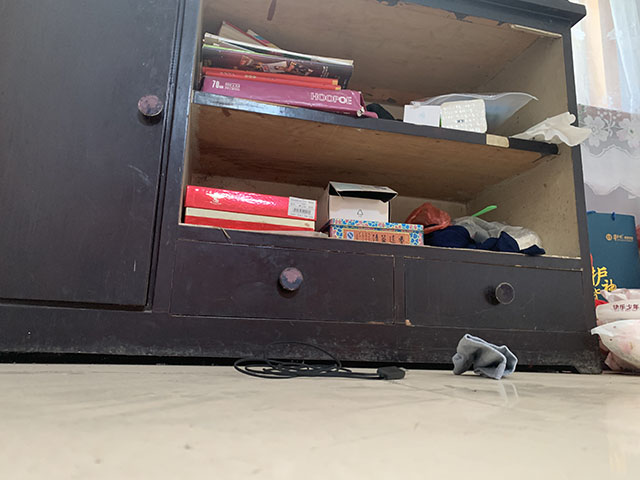cabinet: (1, 1, 602, 376)
socks: (450, 332, 519, 381)
wire: (233, 340, 407, 381)
